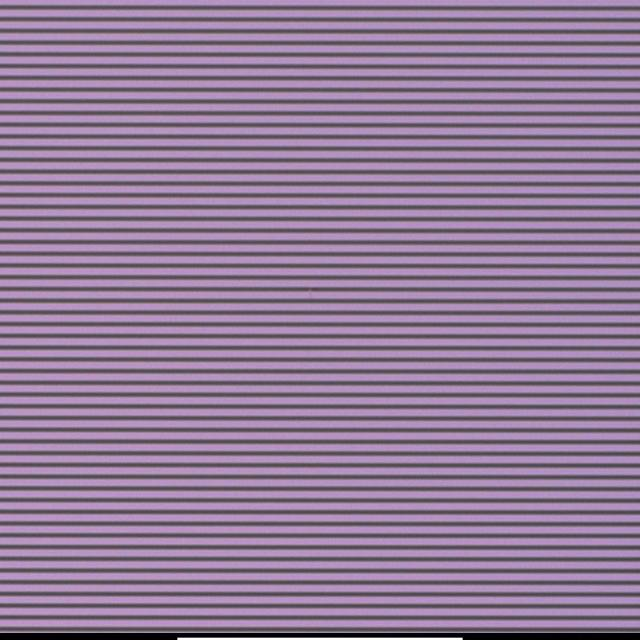03_intrusion: (306, 286, 314, 299)
